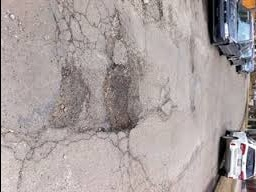pothole: (52, 64, 89, 140), (102, 57, 135, 142), (124, 0, 174, 19), (49, 0, 73, 36), (105, 12, 121, 57)
